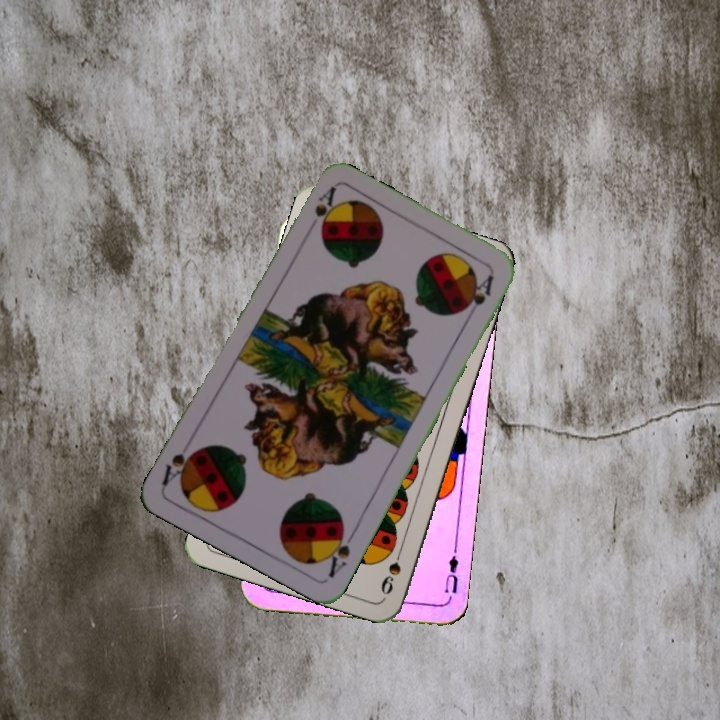EU: (440, 552, 462, 596)
S9: (377, 541, 406, 598)
SA: (322, 521, 359, 581), (302, 184, 339, 238)
